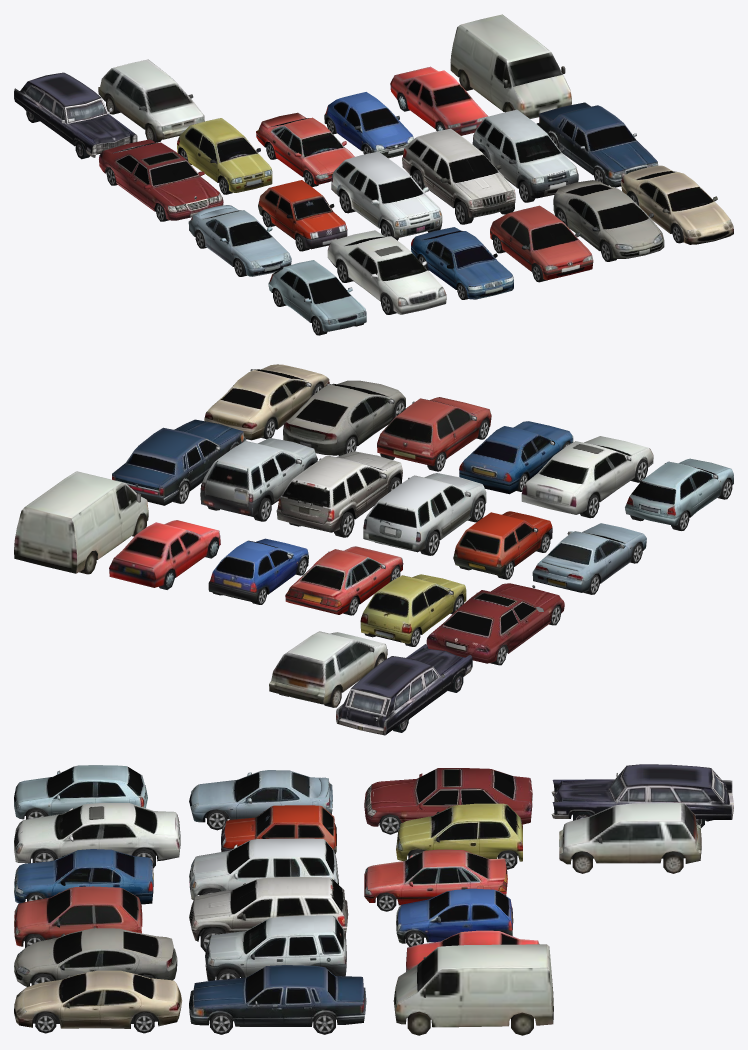
File: urban.glb
3 views of the same model, one above another, from view 1: azimuth 30°, elevation 25°; view 2: azimuth 150°, elevation 25°; view 3: azimuth 270°, elevation 25° (orthographic). The views are drawn at different scales.
Visible parts, largest first — view 1: Van_White_1, G_Object_003, G_Object_025, G_Object_005, G_Object_016, G_Object_010, G_Object_001, G_Object_023, Miller_Meteor, G_Object_021, Waggon_White_1_1, G_Object_019 (+8 smaller); view 2: Van_White_1, Miller_Meteor, G_Object_003, G_Object_025, G_Object_005, G_Object_023, G_Object_016, G_Object_010, G_Object_001, Waggon_White_1_1, G_Object_021, G_Object_019 (+8 smaller); view 3: Van_White_1, G_Object_023, G_Object_021, G_Object_016, Waggon_White_1_1, Miller_Meteor, G_Object_001, G_Object_010, G_Object_025, G_Object_003, G_Object_005, G_Object_028 (+10 smaller).
Boxes of the visible parts, left/top/right/bottom form: Van_White_1: left=450, top=14, right=571, bottom=118; G_Object_003: left=402, top=128, right=515, bottom=217; G_Object_025: left=99, top=139, right=223, bottom=220; G_Object_005: left=331, top=151, right=442, bottom=237; G_Object_016: left=327, top=230, right=446, bottom=314; G_Object_010: left=553, top=180, right=664, bottom=258; G_Object_001: left=472, top=109, right=578, bottom=198; G_Object_023: left=536, top=102, right=658, bottom=187; Miller_Meteor: left=14, top=72, right=137, bottom=157; G_Object_021: left=620, top=165, right=733, bottom=244; Waggon_White_1_1: left=98, top=59, right=204, bottom=140; G_Object_019: left=490, top=205, right=593, bottom=280; Van_White_1: left=14, top=471, right=148, bottom=573; Miller_Meteor: left=336, top=644, right=472, bottom=735; G_Object_003: left=276, top=451, right=402, bottom=532; G_Object_025: left=426, top=583, right=564, bottom=663; G_Object_005: left=363, top=473, right=486, bottom=552; G_Object_023: left=112, top=419, right=246, bottom=505; G_Object_016: left=521, top=436, right=653, bottom=514; G_Object_010: left=283, top=380, right=405, bottom=455; G_Object_001: left=200, top=438, right=317, bottom=516; Waggon_White_1_1: left=269, top=631, right=387, bottom=704; G_Object_021: left=204, top=364, right=329, bottom=440; G_Object_019: left=377, top=397, right=491, bottom=466; Van_White_1: left=393, top=944, right=553, bottom=1027; G_Object_023: left=189, top=965, right=366, bottom=1026; G_Object_021: left=14, top=970, right=182, bottom=1028; G_Object_016: left=14, top=803, right=180, bottom=863; Waggon_White_1_1: left=559, top=803, right=701, bottom=864; Miller_Meteor: left=551, top=764, right=733, bottom=821; G_Object_001: left=205, top=915, right=346, bottom=980; G_Object_010: left=14, top=928, right=177, bottom=986; G_Object_025: left=364, top=768, right=532, bottom=826; G_Object_003: left=189, top=877, right=348, bottom=941; G_Object_005: left=189, top=838, right=338, bottom=899; G_Object_028: left=364, top=849, right=507, bottom=905.
Bounding box in the file's own units: 34.3 × 4.52 × 44.33.
22 materials, 20 textured.
